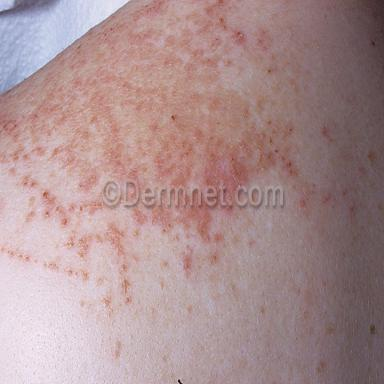Darier_s-Disease: (0, 1, 351, 312)
